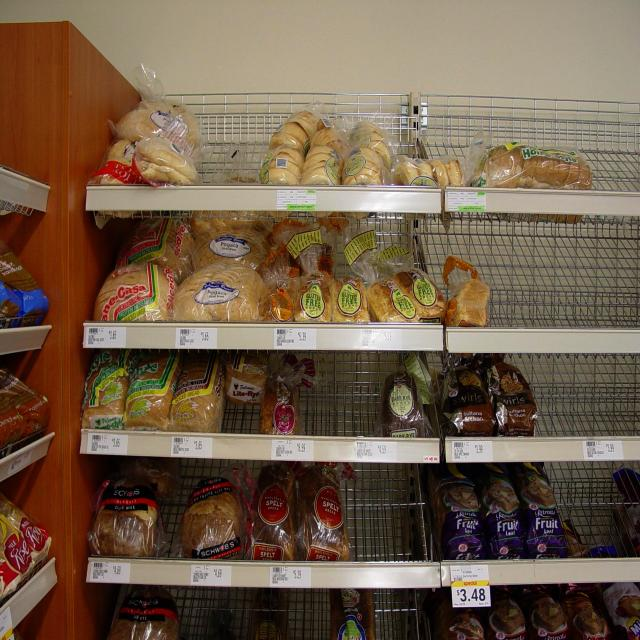empty_space: (496, 231, 640, 320), (538, 363, 640, 425), (198, 591, 314, 640), (317, 363, 375, 433), (367, 482, 420, 554), (205, 112, 258, 184), (568, 468, 618, 540), (599, 127, 637, 193)
